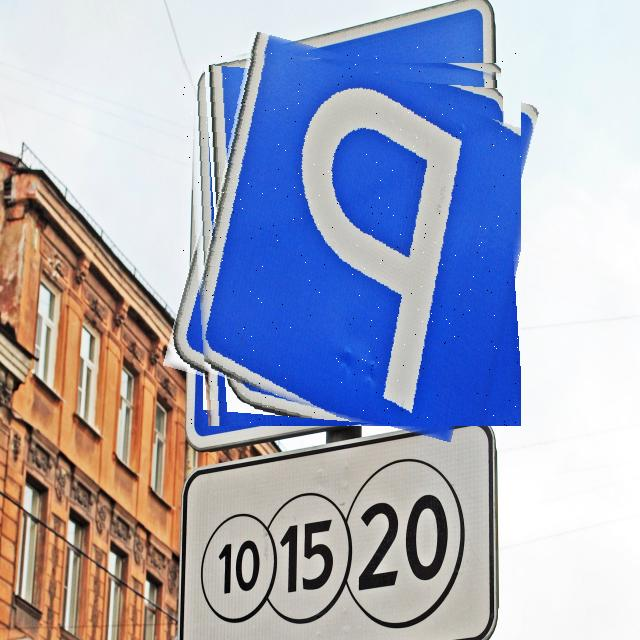parking: (183, 47, 521, 426)
